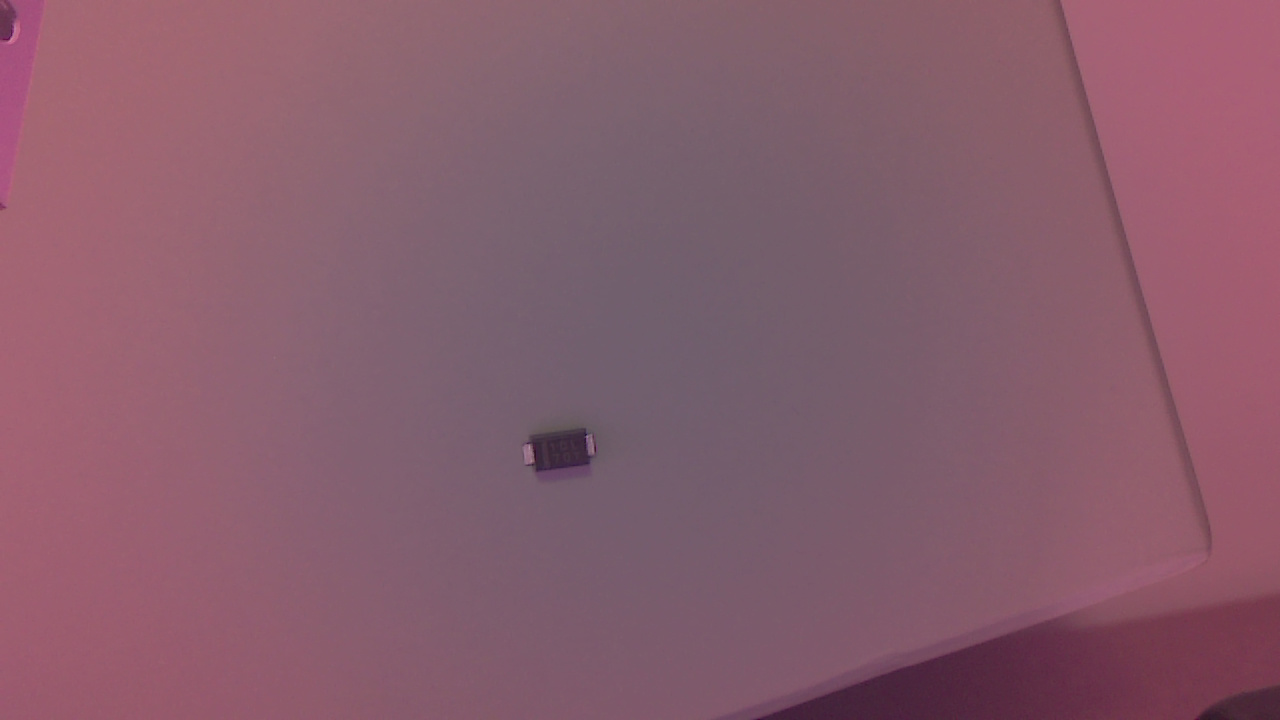Diode: (524, 427, 604, 481)
